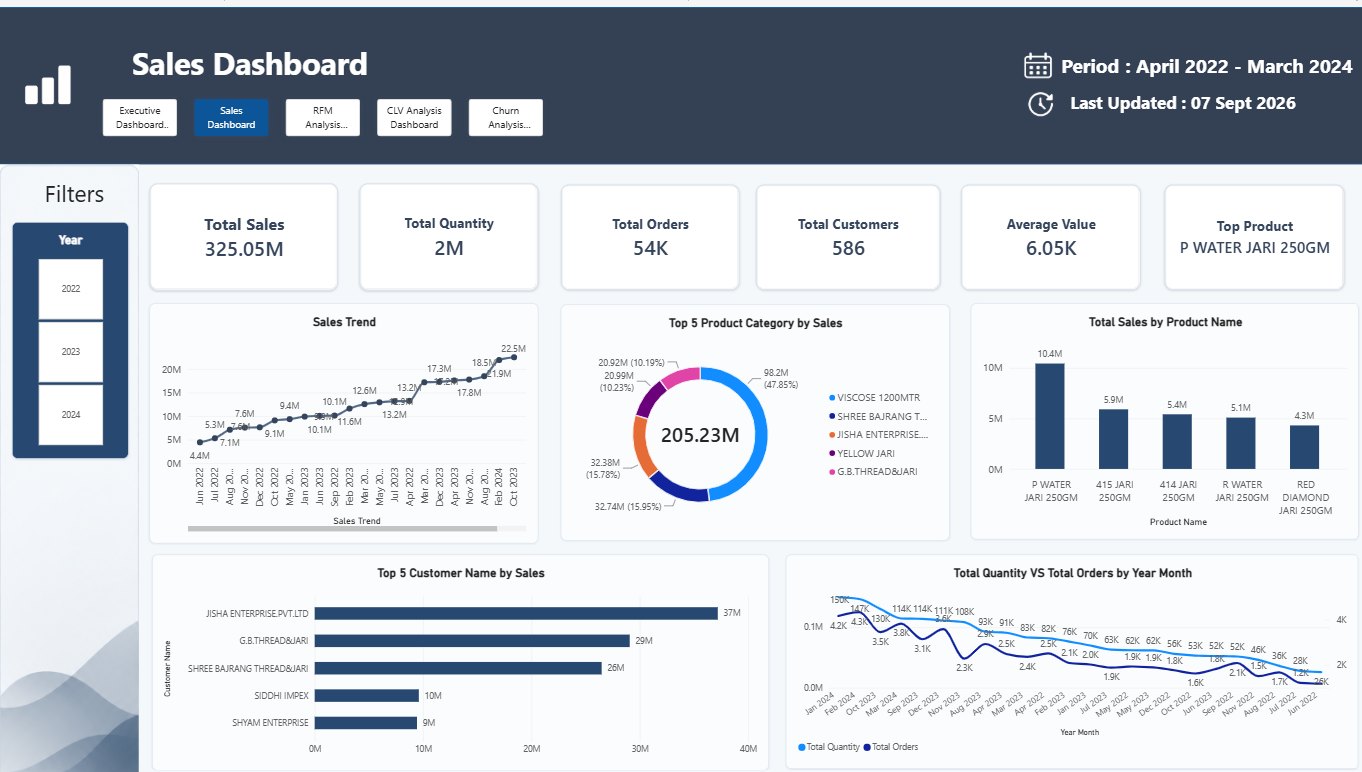

This screenshot's page, from the dashboard's own definition file:
{"tool":"powerbi","page":{"name":"Sales Dashboard","canvas":[1920,1080],"ordinal":1},"visuals":[{"type":"shape","box":[0,0,1920.4,220.2],"z":0},{"type":"textbox","box":[141.2,48.9,537.5,68.8],"z":1000},{"type":"image","box":[0,220,200,860],"z":2000},{"type":"cardVisual","fields":{"Data":["Sheet1.Total Sales"]},"box":[214,246,264,150],"z":3000},{"type":"cardVisual","fields":{"Data":["Sheet1.Total Quantity Check"]},"box":[508,246,250,150],"z":4000},{"type":"cardVisual","fields":{"Data":["Sheet1.Total Customers"]},"box":[1062,248,258,148],"z":5000},{"type":"cardVisual","fields":{"Data":["Sheet1.AOV"]},"box":[1348,248,252,148],"z":6000},{"type":"cardVisual","fields":{"Data":["Sheet1.Total Orders"]},"box":[788,248,250,148],"z":7000},{"type":"lineChart","title":"Sales Trend","fields":{"Category":["Sheet1.Month Year"],"Y":["Sheet1.Total Sales"]},"box":[214,414,544,336],"z":8000},{"type":"donutChart","title":"Top 5 Product Category by Sales  ","fields":{"Category":["Sheet1.Product Category Clean "],"Y":["Sheet1.Total Sales"]},"box":[788,416,544,330],"z":9000},{"type":"clusteredColumnChart","fields":{"Category":["Sheet1.Product Name"],"Y":["Sheet1.Total Sales"]},"box":[1362,414,544,330],"z":10000},{"type":"clusteredBarChart","title":" Top 5 Customer Name by Sales  ","fields":{"Category":["Sheet1.Customer Name"],"Y":["Sheet1.Total Sales"]},"box":[217.2,765.5,863.2,302.2],"z":11000},{"type":"lineChart","title":"Total Quantity VS Total Orders by Year Month","fields":{"Category":["DateTable.Year Month"],"Y":["Sheet1.Total Quantity"],"Y2":["Sheet1.Total Orders"]},"box":[1104,766,802,300],"z":12000},{"type":"cardVisual","fields":{"Data":["Sheet1.Top Product"]},"box":[1634,248,252,148],"z":13000},{"type":"textbox","box":[22,238,140,44],"z":14000},{"type":"slicer","title":"Year","fields":{"Values":["DateTable.Year"]},"box":[21.7,300.4,162.9,331.2],"z":15000},{"type":"image","box":[1416,48,80,70],"z":16000},{"type":"textbox","box":[1474,58,432,52],"z":17000},{"type":"image","box":[0,30,142,160],"z":18000},{"type":"textbox","box":[1496,118,362,44],"z":19000},{"type":"image","box":[1426,110,70,52],"z":20000},{"type":"pageNavigator","box":[139.3,121.2,633.4,68.8],"z":21000}]}

Visuals, with their boxes in screenshot pixels (x1, y1, x2, y2), scaled from the page's 1920x1080 canvas onto the 1362x772 screenshot:
shape: <region>0, 0, 1361, 157</region>
textbox: <region>100, 35, 481, 84</region>
image: <region>0, 157, 142, 771</region>
cardVisual - Sheet1.Total Sales: <region>152, 176, 339, 283</region>
cardVisual - Sheet1.Total Quantity Check: <region>360, 176, 538, 283</region>
cardVisual - Sheet1.Total Customers: <region>753, 177, 936, 283</region>
cardVisual - Sheet1.AOV: <region>956, 177, 1135, 283</region>
cardVisual - Sheet1.Total Orders: <region>559, 177, 736, 283</region>
"Sales Trend" lineChart: <region>152, 296, 538, 536</region>
"Top 5 Product Category by Sales  " donutChart: <region>559, 297, 945, 533</region>
clusteredColumnChart - Sheet1.Product Name x Sheet1.Total Sales: <region>966, 296, 1352, 532</region>
" Top 5 Customer Name by Sales  " clusteredBarChart: <region>154, 547, 766, 763</region>
"Total Quantity VS Total Orders by Year Month" lineChart: <region>783, 548, 1352, 762</region>
cardVisual - Sheet1.Top Product: <region>1159, 177, 1338, 283</region>
textbox: <region>16, 170, 115, 202</region>
"Year" slicer: <region>15, 215, 131, 451</region>
image: <region>1004, 34, 1061, 84</region>
textbox: <region>1046, 41, 1352, 79</region>
image: <region>0, 21, 101, 136</region>
textbox: <region>1061, 84, 1318, 116</region>
image: <region>1012, 79, 1061, 116</region>
pageNavigator: <region>99, 87, 548, 136</region>
